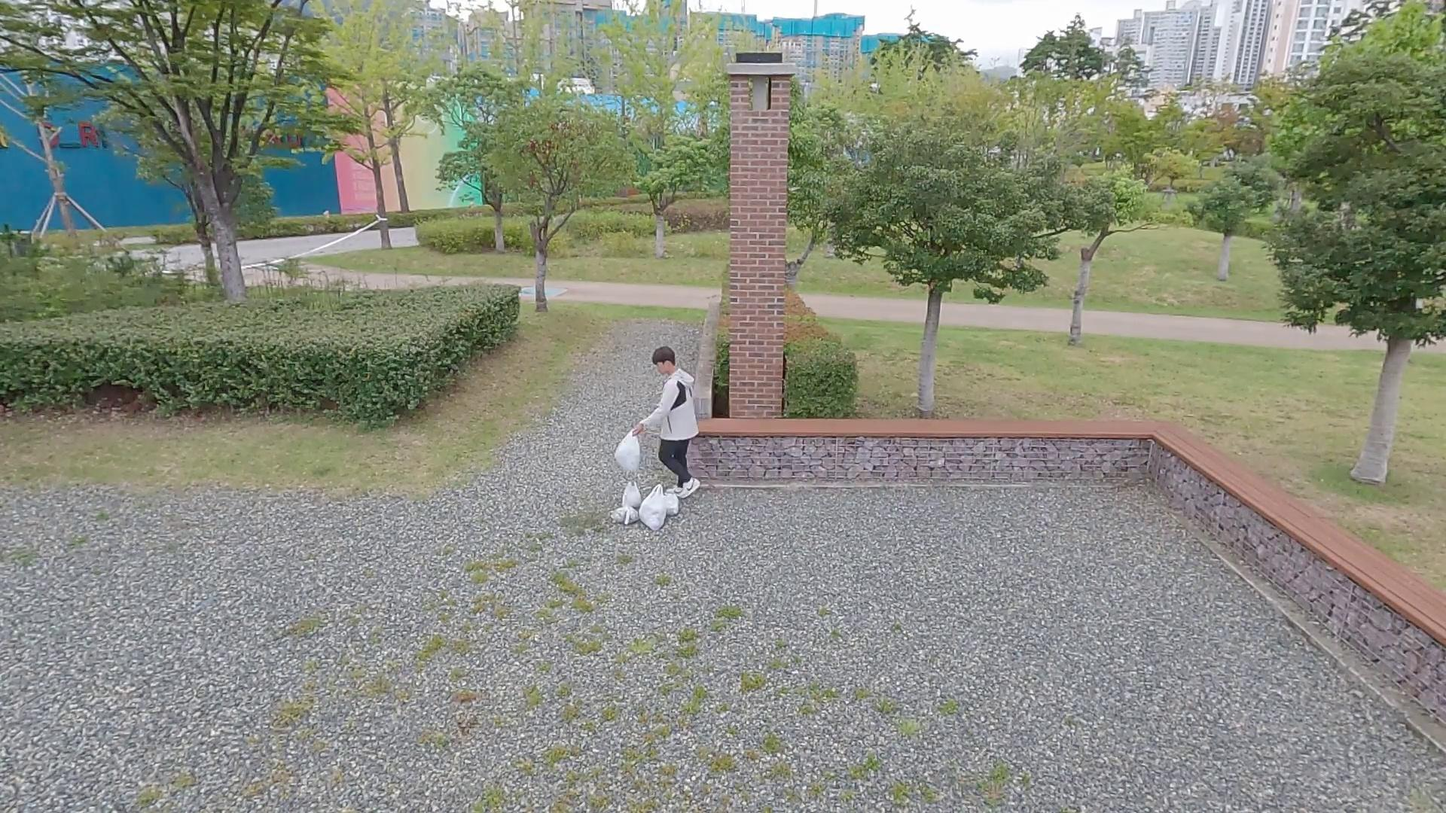person: (631, 344, 702, 504)
trash: (632, 481, 670, 540), (610, 427, 645, 478), (621, 475, 646, 514), (657, 493, 683, 520), (607, 505, 640, 526)
